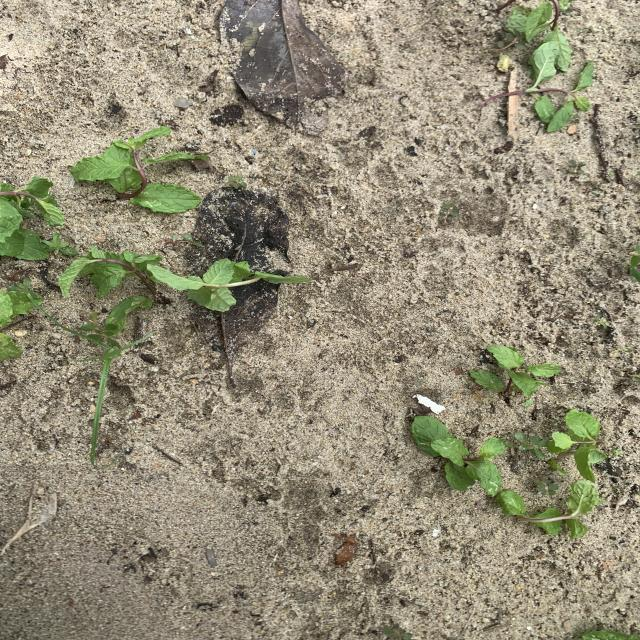crop: (507, 0, 594, 133), (71, 127, 199, 211), (60, 248, 202, 305), (412, 416, 505, 494), (494, 479, 603, 538), (188, 259, 310, 311), (1, 176, 63, 259), (471, 346, 560, 403), (547, 410, 606, 480), (1, 285, 42, 328), (0, 333, 22, 362), (629, 244, 639, 280)
weed: (89, 336, 147, 467), (516, 433, 566, 475), (80, 311, 119, 347), (41, 233, 78, 255), (171, 233, 201, 247), (533, 478, 559, 494), (383, 626, 411, 639), (226, 174, 247, 190), (440, 203, 457, 221), (567, 160, 583, 174), (595, 317, 607, 327), (613, 449, 622, 455), (633, 375, 639, 381)
